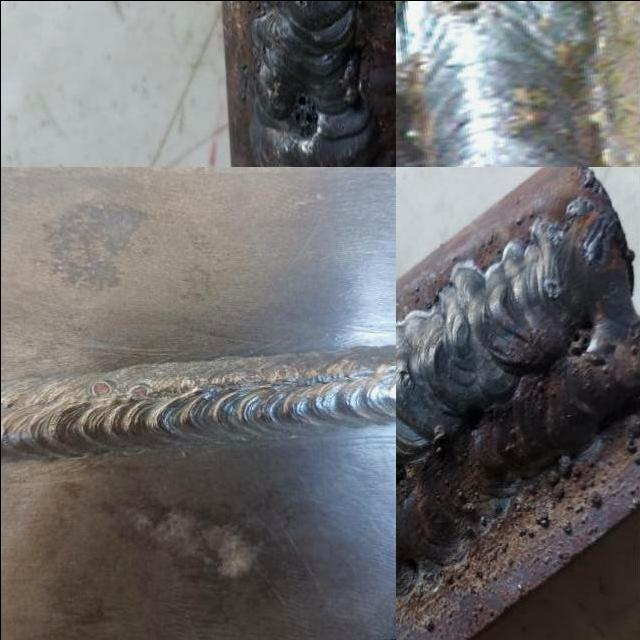defect: (286, 85, 323, 146), (562, 308, 598, 365), (435, 0, 495, 16), (463, 399, 486, 429), (83, 377, 114, 397), (233, 368, 260, 388), (270, 366, 294, 386), (125, 384, 153, 401), (543, 274, 558, 297), (296, 0, 314, 13), (0, 397, 15, 409)
